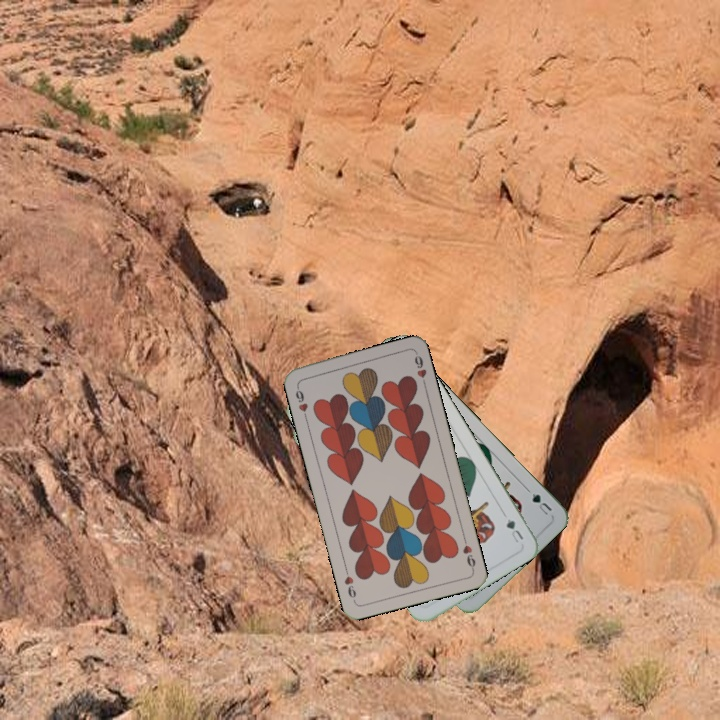GU: (523, 485, 555, 518), (499, 509, 526, 546)
H9: (291, 381, 311, 421), (459, 533, 478, 573)
